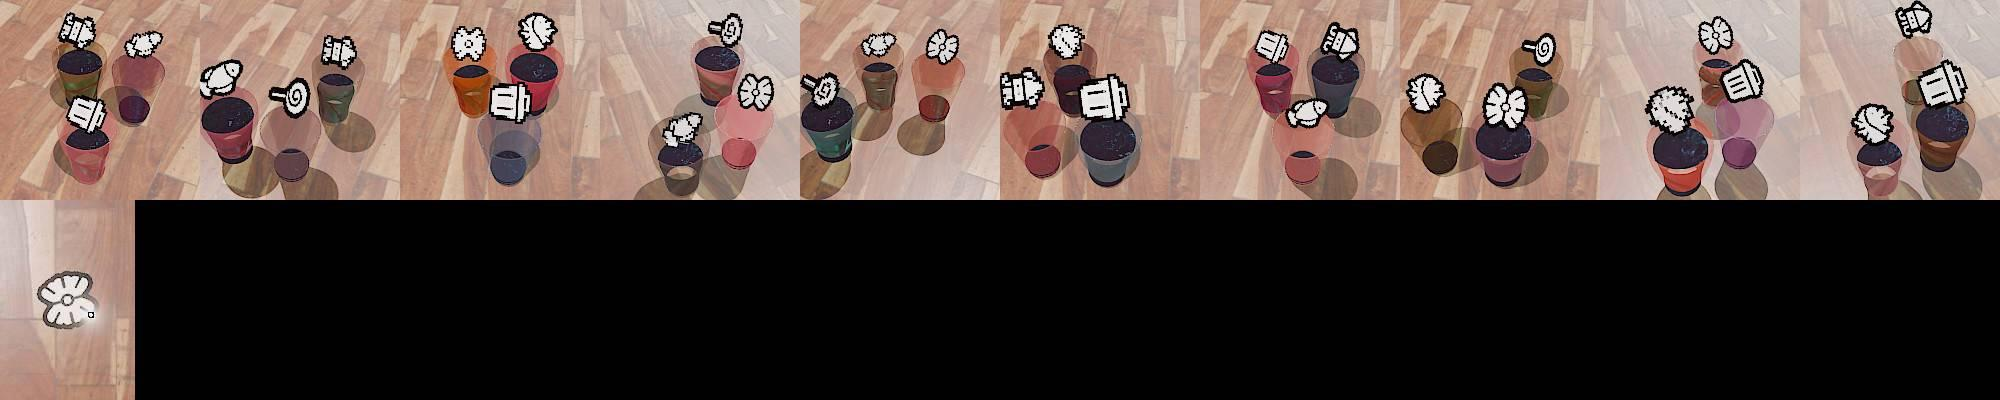icon: (38, 269, 100, 329), (1075, 72, 1130, 121), (1913, 59, 1968, 108), (1645, 84, 1696, 134), (1483, 79, 1529, 129), (486, 80, 534, 124), (1719, 58, 1765, 103), (999, 68, 1042, 111), (270, 77, 313, 120), (198, 58, 243, 99), (1852, 102, 1895, 144), (65, 93, 107, 134), (1405, 72, 1446, 113), (517, 12, 558, 52), (660, 110, 703, 147), (1320, 22, 1360, 60), (738, 71, 775, 112), (800, 71, 841, 108), (449, 24, 487, 63), (58, 11, 97, 49), (1894, 1, 1932, 39), (1047, 23, 1084, 60), (1697, 16, 1732, 55), (925, 28, 960, 66), (1285, 96, 1326, 128), (321, 34, 358, 69), (707, 12, 742, 49), (1520, 33, 1558, 67), (1255, 28, 1290, 63), (125, 30, 164, 59), (859, 31, 898, 59)
